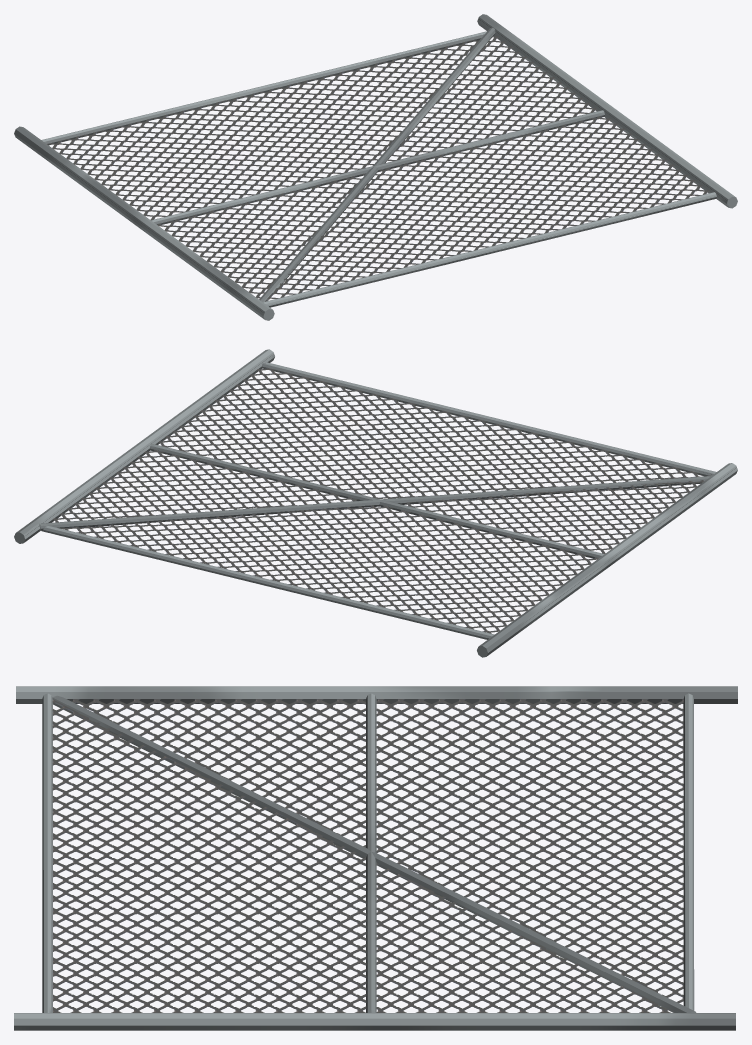
The model's file is fence.glb.
The picture shows the model from 3 angles, top to bottom: view 1: azimuth 30°, elevation 25°; view 2: azimuth 150°, elevation 25°; view 3: azimuth 270°, elevation 25°; orthographic projection. The views are drawn at different scales.
Visible parts, largest first — view 1: Plane, Cylinder, Cylinder.001, Cylinder.003, Cylinder.004, Cylinder.002, Cylinder.005; view 2: Plane, Cylinder.005, Cylinder, Cylinder.001, Cylinder.002, Cylinder.003, Cylinder.004; view 3: Plane, Cylinder.001, Cylinder, Cylinder.005, Cylinder.003, Cylinder.002, Cylinder.004.
Boxes of the visible parts, box(x1,y1,x2,y2) form: Plane: box(47, 36, 709, 301); Cylinder: box(14, 126, 274, 320); Cylinder.001: box(477, 14, 737, 208); Cylinder.003: box(263, 192, 716, 307); Cylinder.004: box(151, 110, 604, 224); Cylinder.002: box(41, 31, 493, 145); Cylinder.005: box(259, 27, 495, 301); Plane: box(52, 367, 710, 633); Cylinder.005: box(39, 476, 710, 530); Cylinder: box(477, 463, 737, 657); Cylinder.001: box(14, 349, 274, 543); Cylinder.002: box(41, 526, 494, 639); Cylinder.003: box(262, 361, 716, 476); Cylinder.004: box(149, 444, 604, 558); Plane: box(52, 699, 683, 1012); Cylinder.001: box(14, 1013, 735, 1030); Cylinder: box(16, 686, 737, 703); Cylinder.005: box(52, 695, 696, 1012); Cylinder.003: box(42, 693, 52, 1012); Cylinder.002: box(683, 693, 694, 1010); Cylinder.004: box(366, 693, 376, 1012).
Size of the model in its own units: 202 by 4.81 by 184.
Materials: 2 (2 with a texture image).
